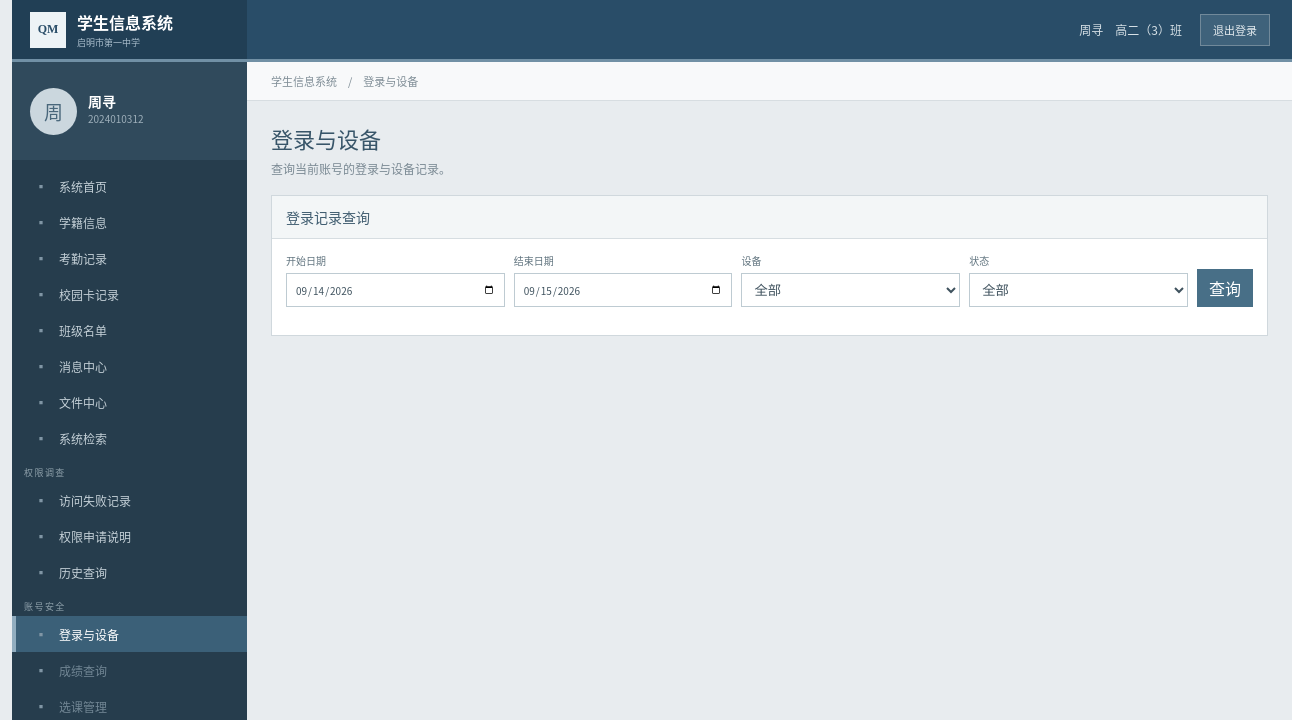
Test: 第五章页面与权限 › 错误组合不触发线索，重新查询会清理不可见选择
Click the button "查询" at (1225, 288), box 1197,269 -> 1253,307
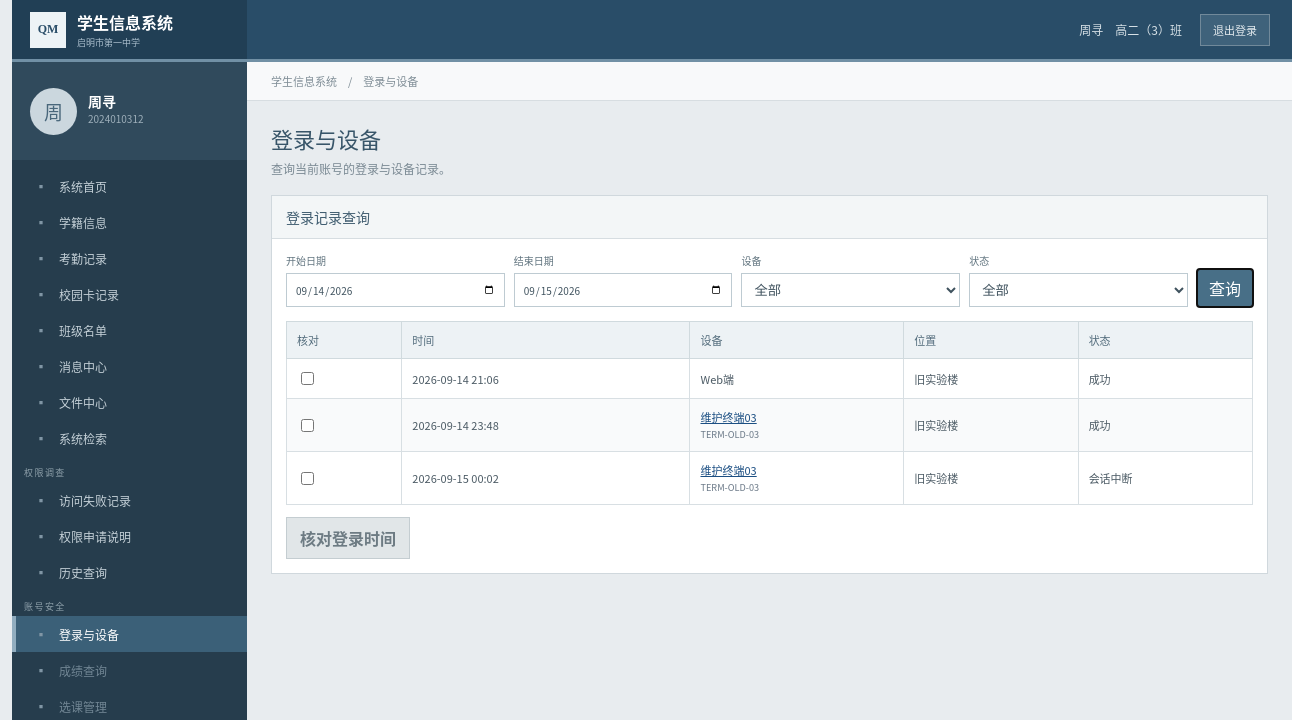
Click the checkbox named "选择2026-09-14 21:06" at (308, 378), box 301,372 -> 314,385
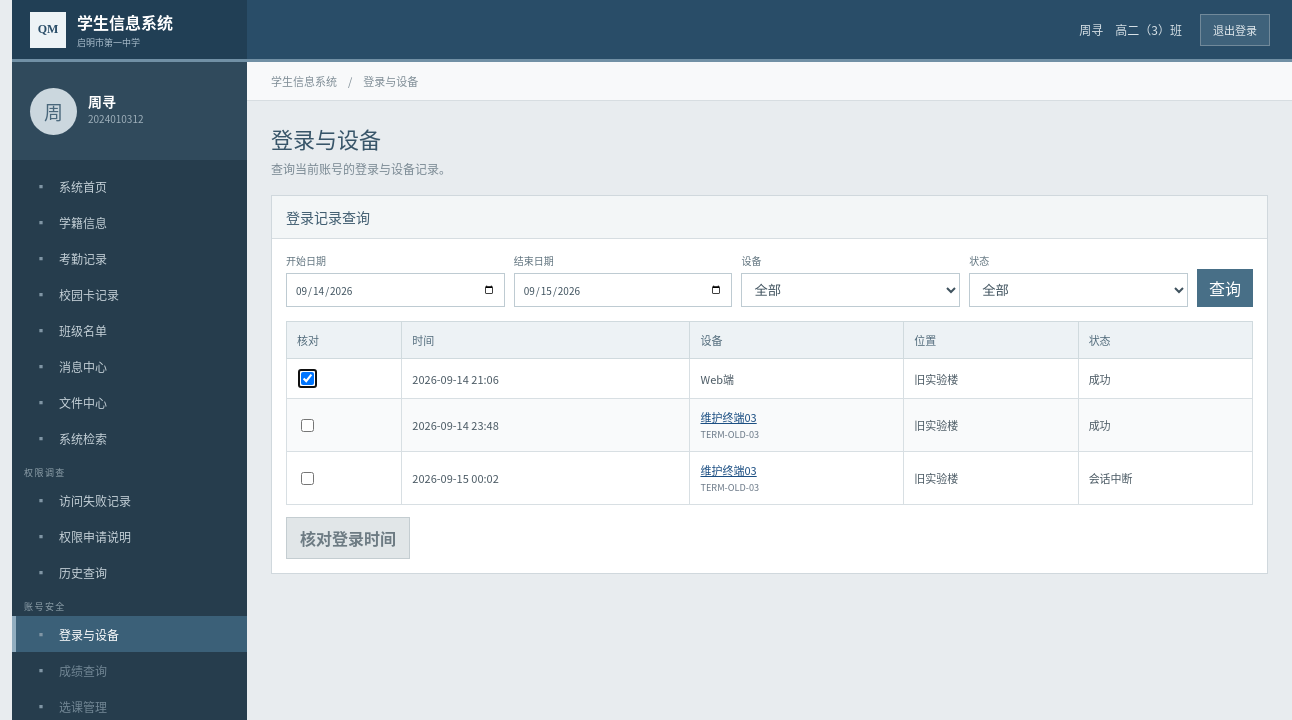
Click the checkbox named "选择2026-09-14 23:48" at (308, 425), box 301,418 -> 314,432
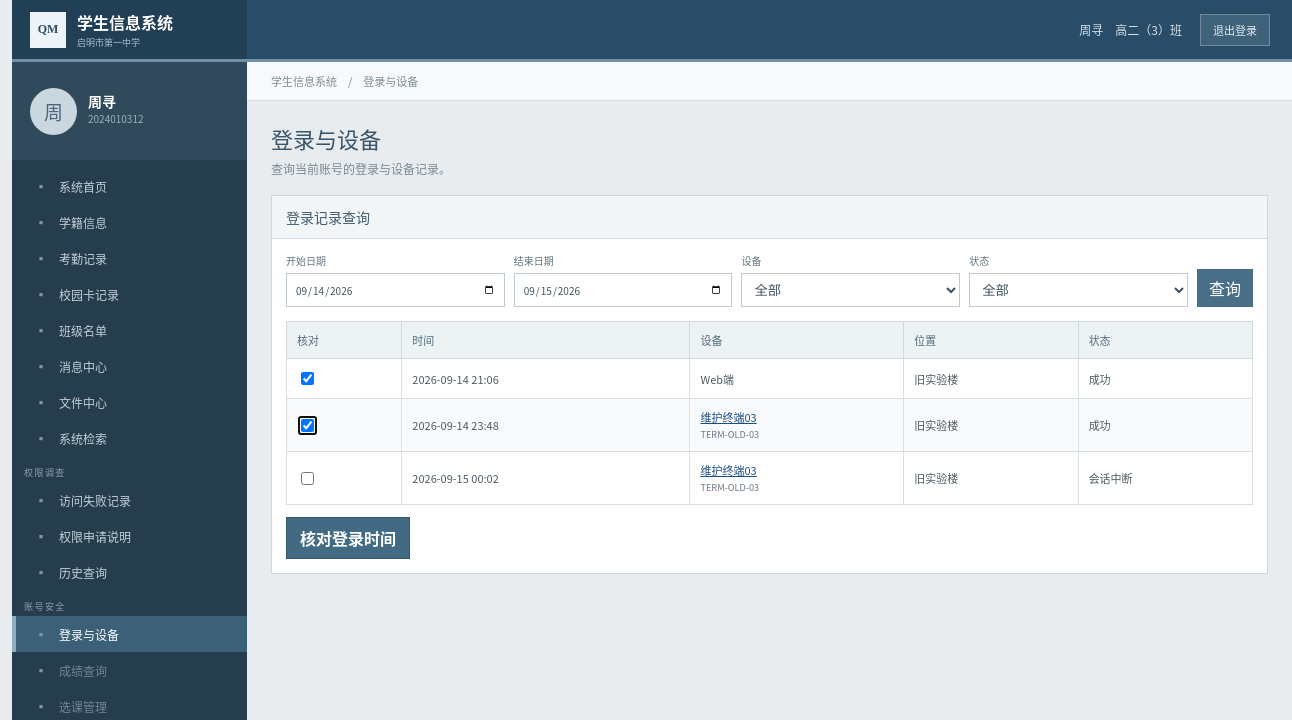
Click the button "核对登录时间" at (348, 538), box 286,517 -> 410,559
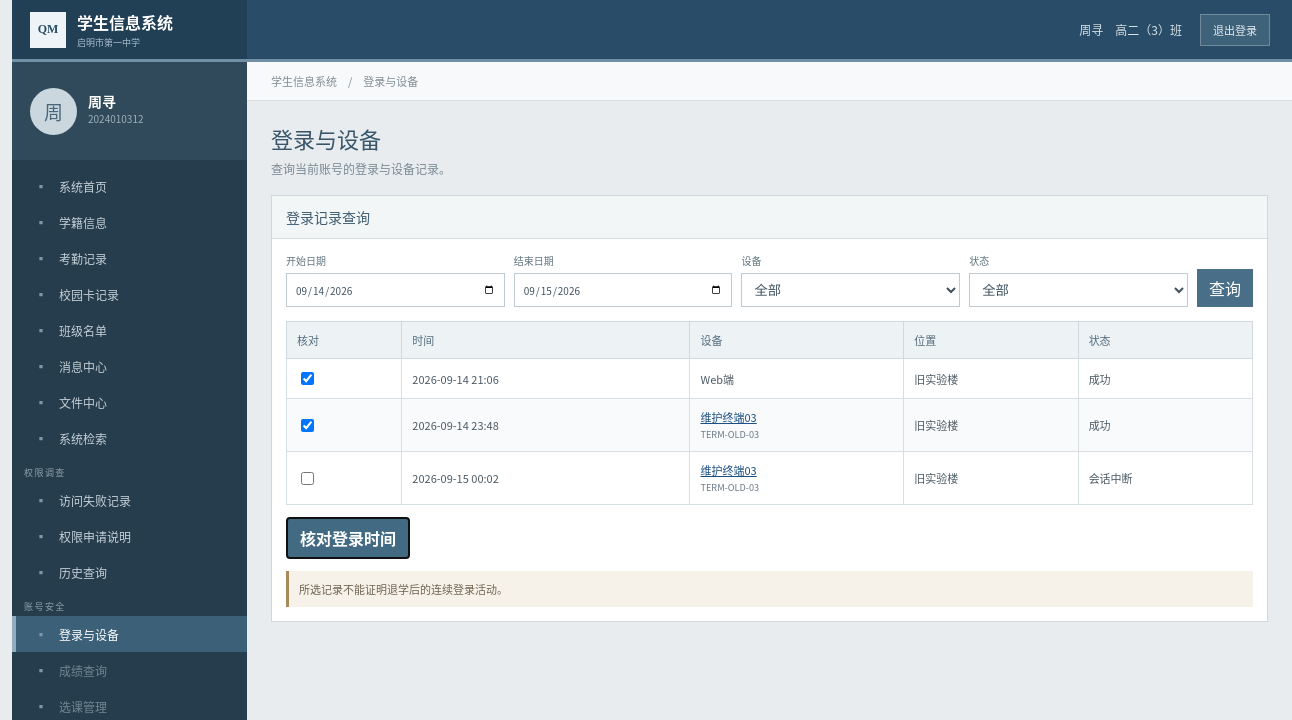
Check: the message shows "所选记录不能证明", box 299,581 -> 508,597
Type "2026-09-15" into the date field named "登录开始日期" at (395, 290), box 286,273 -> 505,307
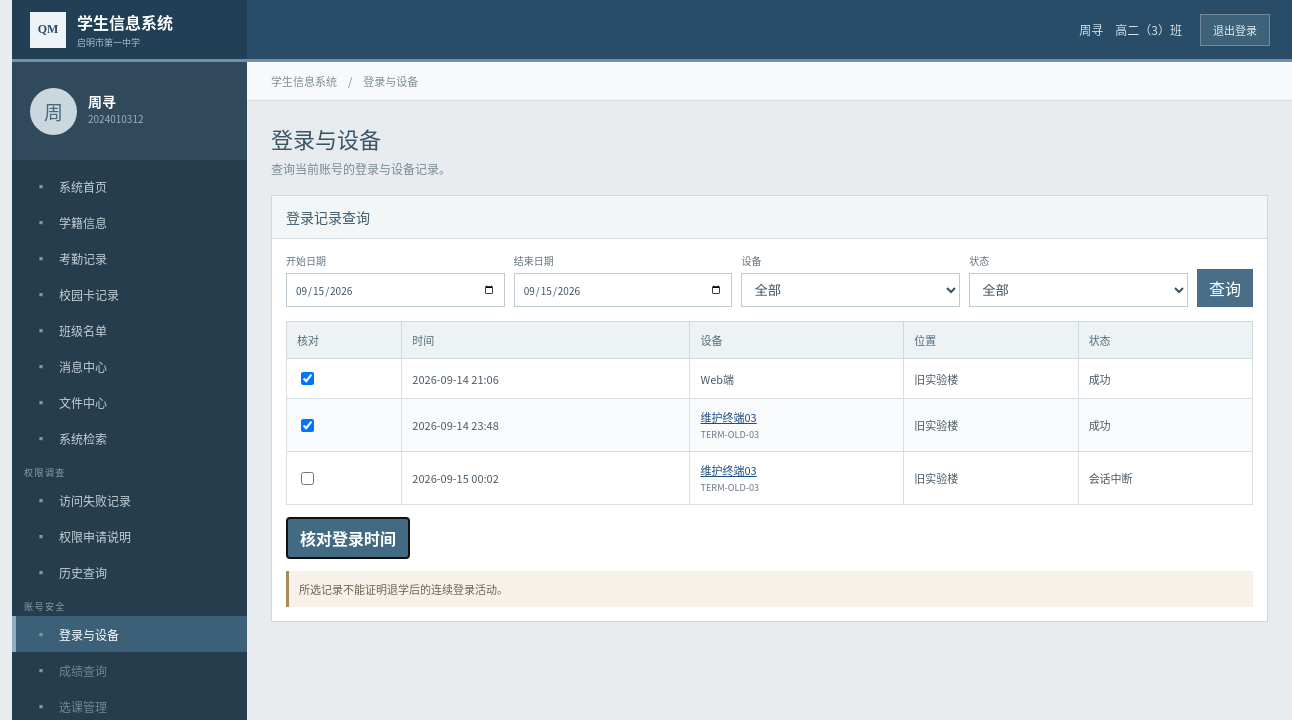
Click the button "查询" at (1225, 288), box 1197,269 -> 1253,307
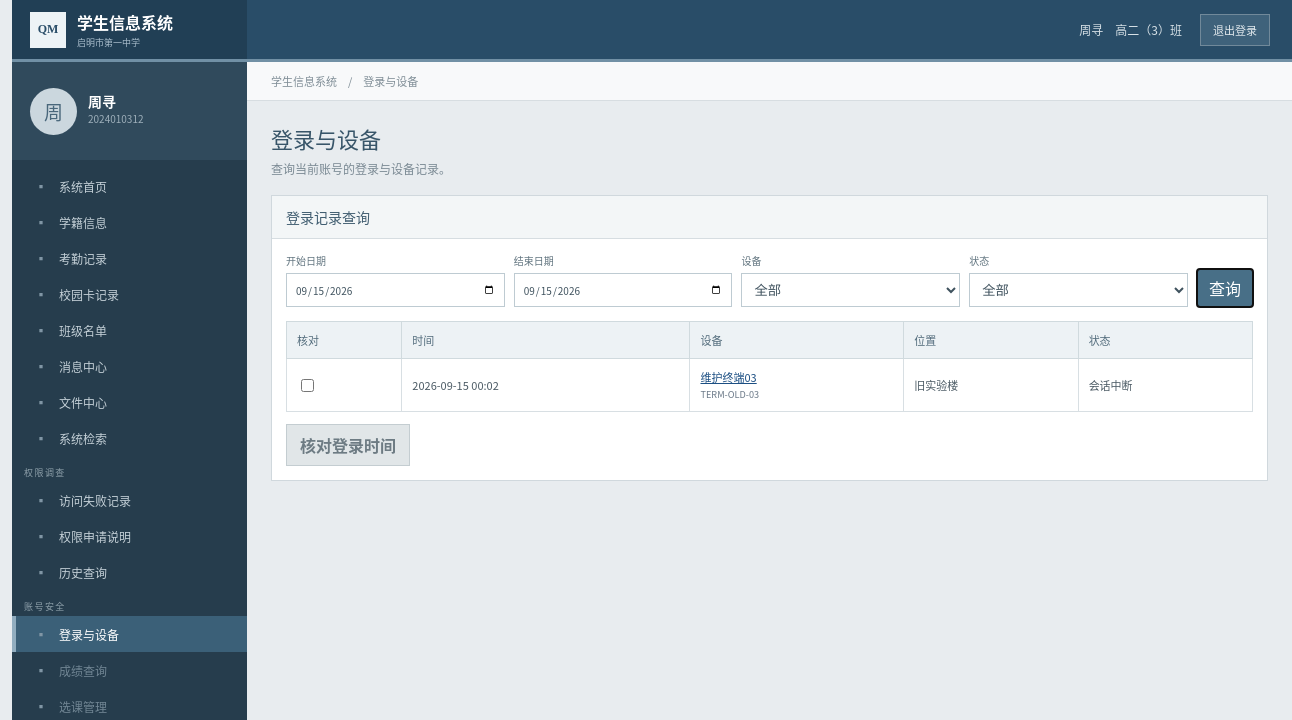
Check: the checkbox named "选择2026-09-15 00:02" is not checked, box 301,378 -> 314,392
Check: the button "核对登录时间" is disabled, box 286,424 -> 410,466
